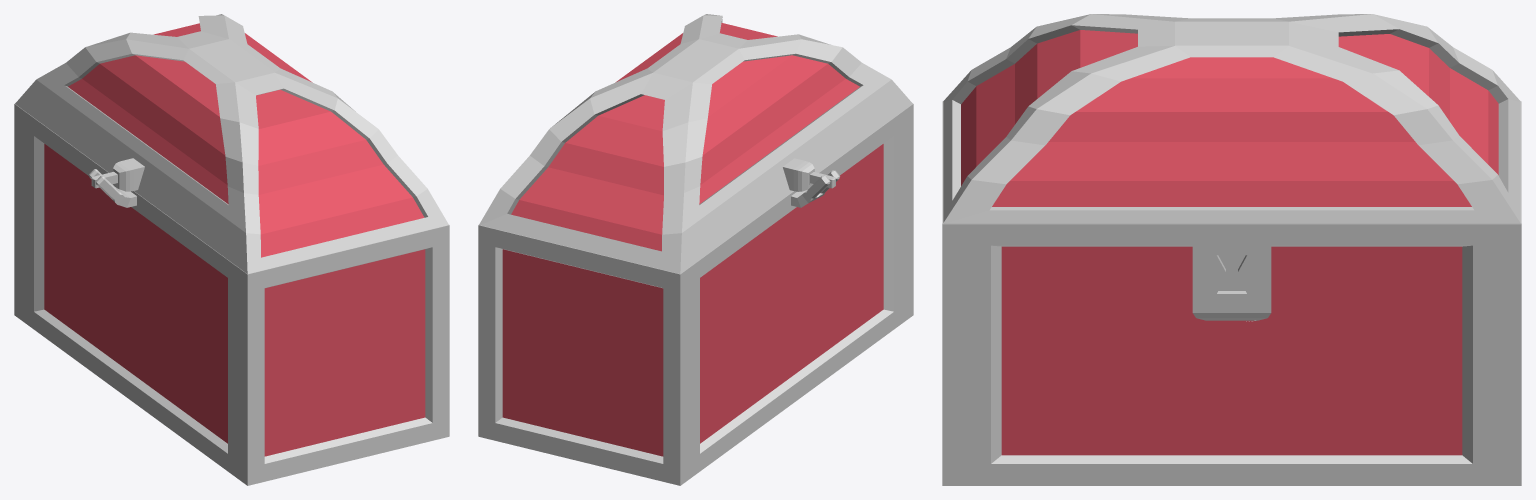
File: Chest.fbx
3 views of the same model, side by side, from view 1: azimuth 30°, elevation 25°; view 2: azimuth 150°, elevation 25°; view 3: azimuth 270°, elevation 25° (orthographic). The views are drawn at different scales.
Visible parts, largest first — view 1: ChestBottom, ChestTop; view 2: ChestBottom, ChestTop; view 3: ChestBottom, ChestTop.
Part boxes in pixels (left/top/right/bottom): ChestBottom: left=14, top=103, right=449, bottom=485; ChestTop: left=15, top=14, right=448, bottom=273; ChestBottom: left=478, top=103, right=913, bottom=485; ChestTop: left=479, top=14, right=912, bottom=273; ChestBottom: left=942, top=101, right=1521, bottom=485; ChestTop: left=943, top=14, right=1520, bottom=224.
Size of the model in its own units: 59.49 by 74.51 by 100.
